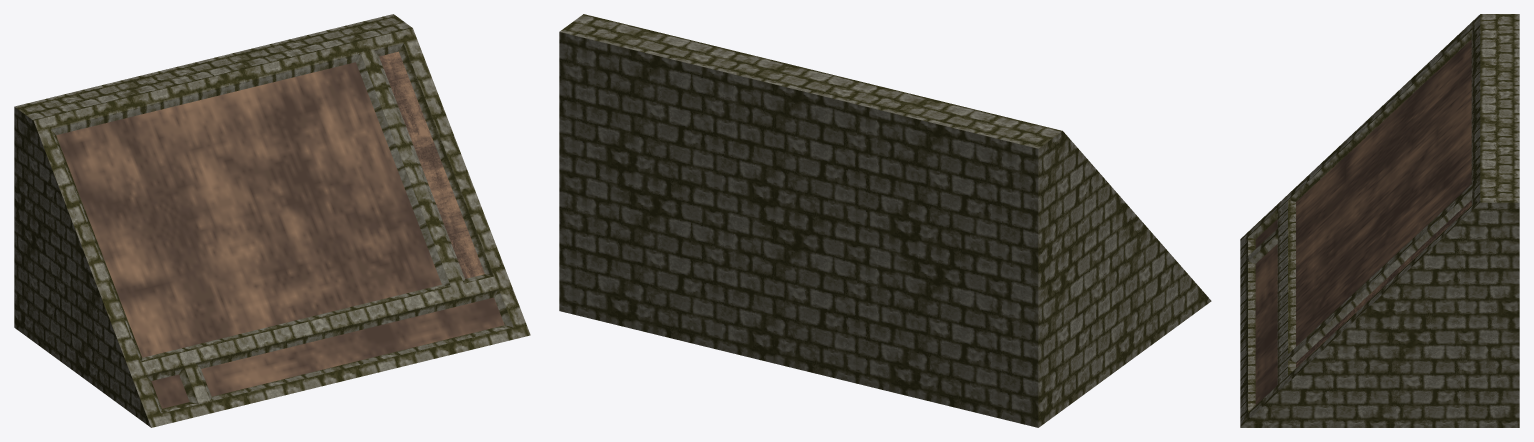
File: videoWall.fbx
The picture shows the model from 3 angles, left to right: view 1: azimuth 30°, elevation 25°; view 2: azimuth 150°, elevation 25°; view 3: azimuth 270°, elevation 25°; orthographic projection. The views are drawn at different scales.
Visible parts, largest first — view 1: videoWall; view 2: videoWall; view 3: videoWall.
Part boxes in pixels (x1=…): videoWall: x1=14, y1=14, x2=530, y2=427; videoWall: x1=559, y1=14, x2=1211, y2=427; videoWall: x1=1240, y1=14, x2=1519, y2=427.
Size of the model in its own units: 985 by 617 by 548.
Materials: 2 (2 with a texture image).
